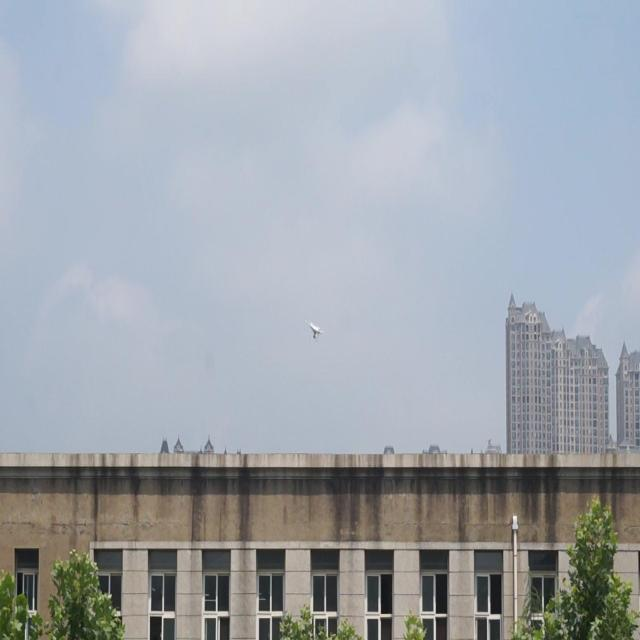drone: (304, 316, 323, 344)
